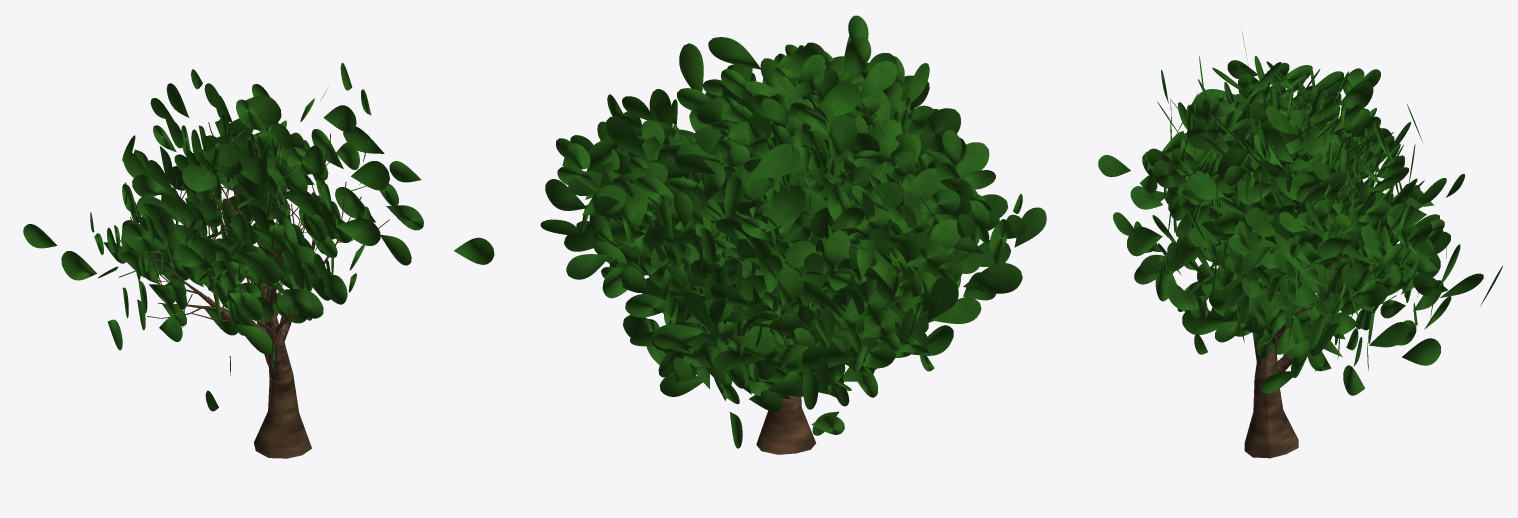
Rendered from tree_payment_001_meshopt.glb.
The picture shows the model from 3 angles, left to right: view 1: azimuth 30°, elevation 25°; view 2: azimuth 150°, elevation 25°; view 3: azimuth 270°, elevation 25°; orthographic projection. The views are drawn at different scales.
Parts seen in each view (by area): view 1: Leaves, Bark; view 2: Leaves, Bark; view 3: Leaves, Bark.
Boxes of the visible parts, box(x1,y1,x2,y2) form: Leaves: box(23, 62, 494, 411); Bark: box(120, 122, 389, 458); Leaves: box(540, 15, 1046, 448); Bark: box(756, 395, 816, 454); Leaves: box(1098, 30, 1502, 395); Bark: box(1213, 126, 1396, 458).
Bounding box in the file's own units: 4.72 × 4.17 × 3.86.
3 materials, 2 textured.
